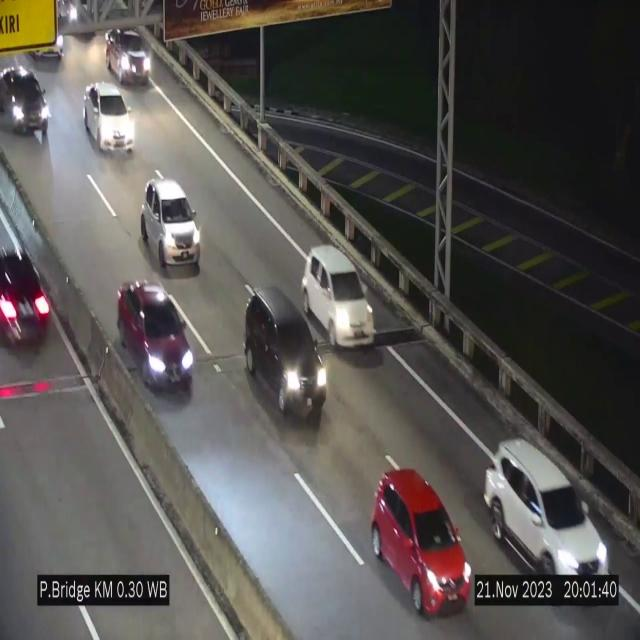Car: (484, 439, 610, 575), (372, 469, 470, 615), (242, 287, 328, 432), (118, 280, 196, 392), (302, 247, 376, 347), (141, 180, 201, 271), (84, 82, 135, 155), (0, 66, 52, 136), (106, 29, 152, 85)
